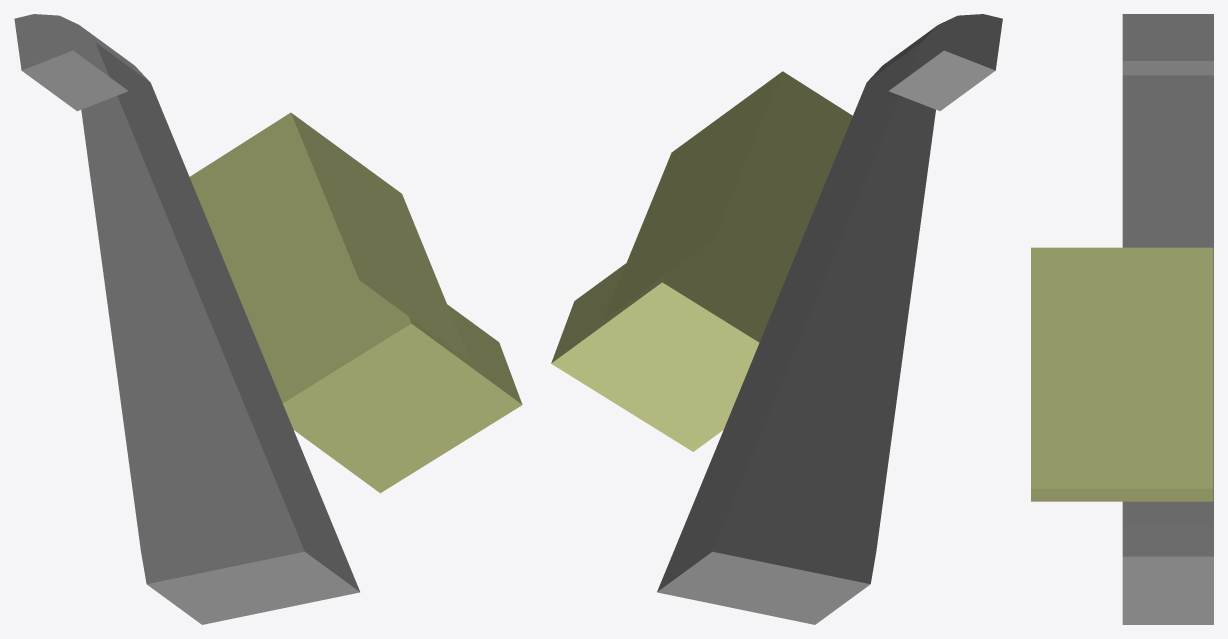
The picture shows the model from 3 angles, left to right: view 1: azimuth 30°, elevation 25°; view 2: azimuth 150°, elevation 25°; view 3: azimuth 270°, elevation 25°; orthographic projection. The views are drawn at different scales.
Visible parts, largest first — view 1: 0_1_2_0_0_2_1_0_1_2; view 2: 0_1_2_0_0_2_1_0_1_2; view 3: 0_1_2_0_0_2_1_0_1_2.
Boxes of the visible parts, x1=… form: 0_1_2_0_0_2_1_0_1_2: x1=14, y1=14, x2=522, y2=624; 0_1_2_0_0_2_1_0_1_2: x1=551, y1=14, x2=1002, y2=624; 0_1_2_0_0_2_1_0_1_2: x1=1031, y1=14, x2=1213, y2=624.
Size of the model in its own units: 12.35 by 17.97 by 6.02.
